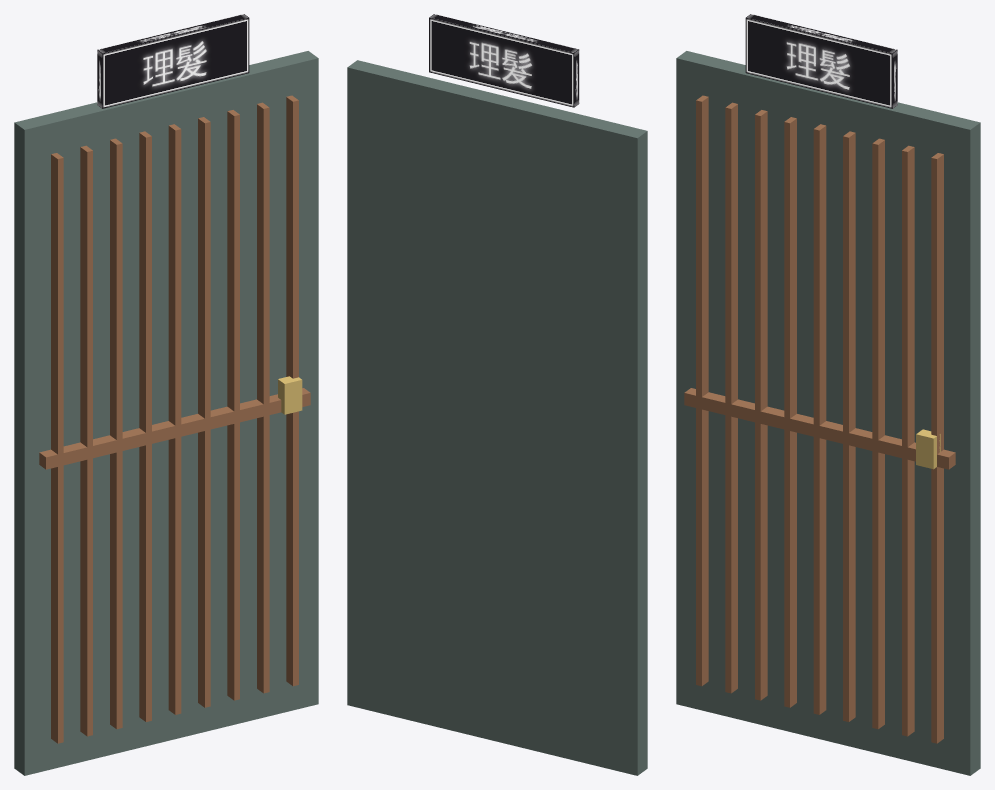
Rendered from iron_gate.glb.
The picture shows the model from 3 angles, left to right: view 1: azimuth 30°, elevation 25°; view 2: azimuth 150°, elevation 25°; view 3: azimuth 330°, elevation 25°; orthographic projection.
Parts seen in each view (by area): view 1: iron_gate; view 2: iron_gate; view 3: iron_gate.
Part boxes in pixels (x1,y1,x2,y2): iron_gate: (14, 14, 318, 775); iron_gate: (347, 14, 647, 775); iron_gate: (676, 14, 980, 775).
Size of the model in its own units: 1 by 2.3 by 0.12.
Materials: 4 (1 with a texture image).
